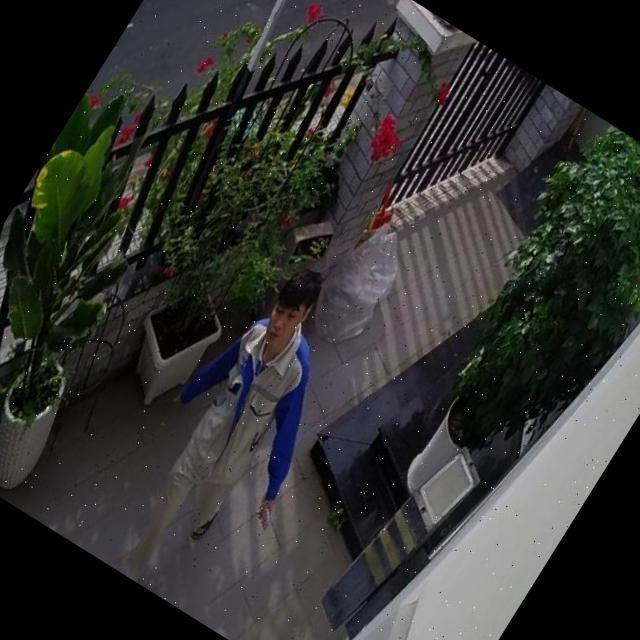person: (80, 238, 399, 626)
